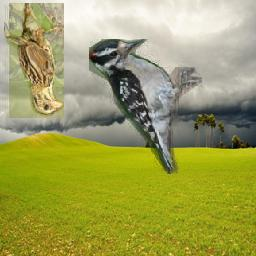Sparrow: (4, 4, 64, 119)
Woodpecker: (90, 40, 203, 175)
